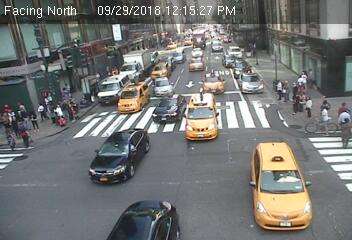car: (250, 142, 314, 232), (89, 128, 151, 187), (107, 198, 181, 239), (188, 93, 218, 139), (118, 81, 149, 115), (98, 75, 130, 107), (153, 95, 185, 123), (117, 50, 149, 77), (203, 73, 226, 94), (243, 71, 264, 94), (154, 77, 175, 94), (152, 63, 169, 81), (233, 60, 249, 79), (187, 56, 205, 70), (227, 45, 245, 59), (171, 49, 185, 64), (222, 55, 237, 68), (210, 39, 224, 52), (191, 46, 204, 56)
